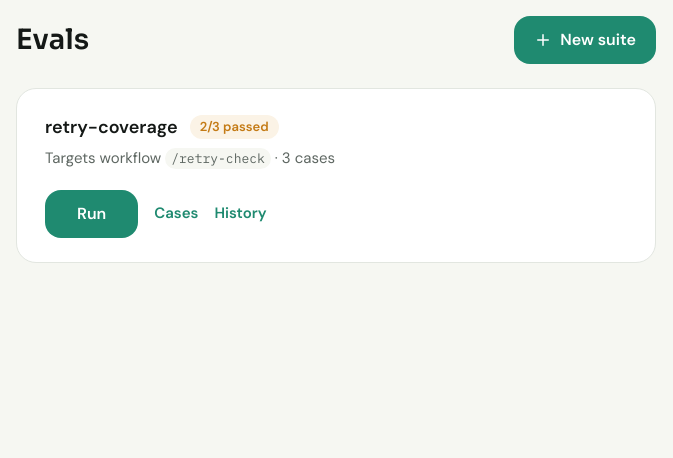
Test: evals/+page.svelte › shows run history with per-case results
Click the button "History" at (240, 214), box [214,202,266,225]
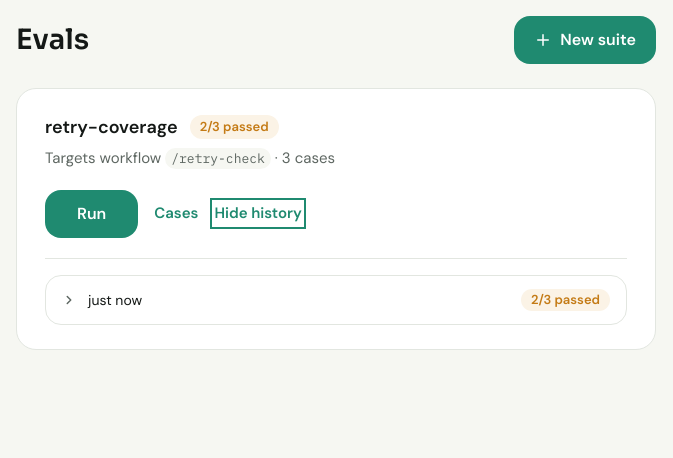
Click the 2nd text "2/3 passed" at (566, 300), box [521,288,610,310]
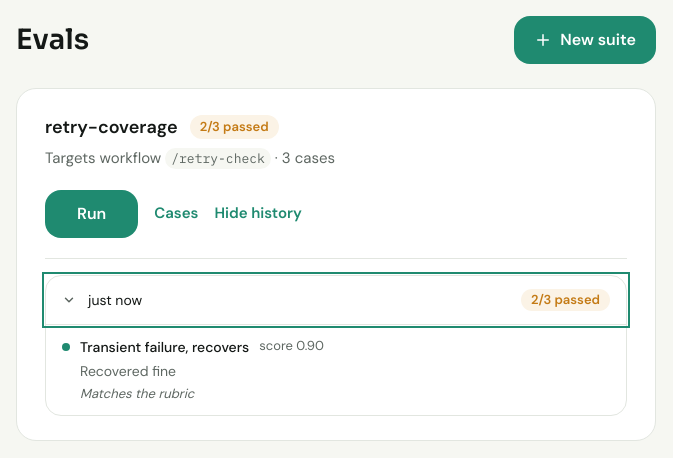
Expected: the text "Recovered fine" is shown, [80,362,176,380]
